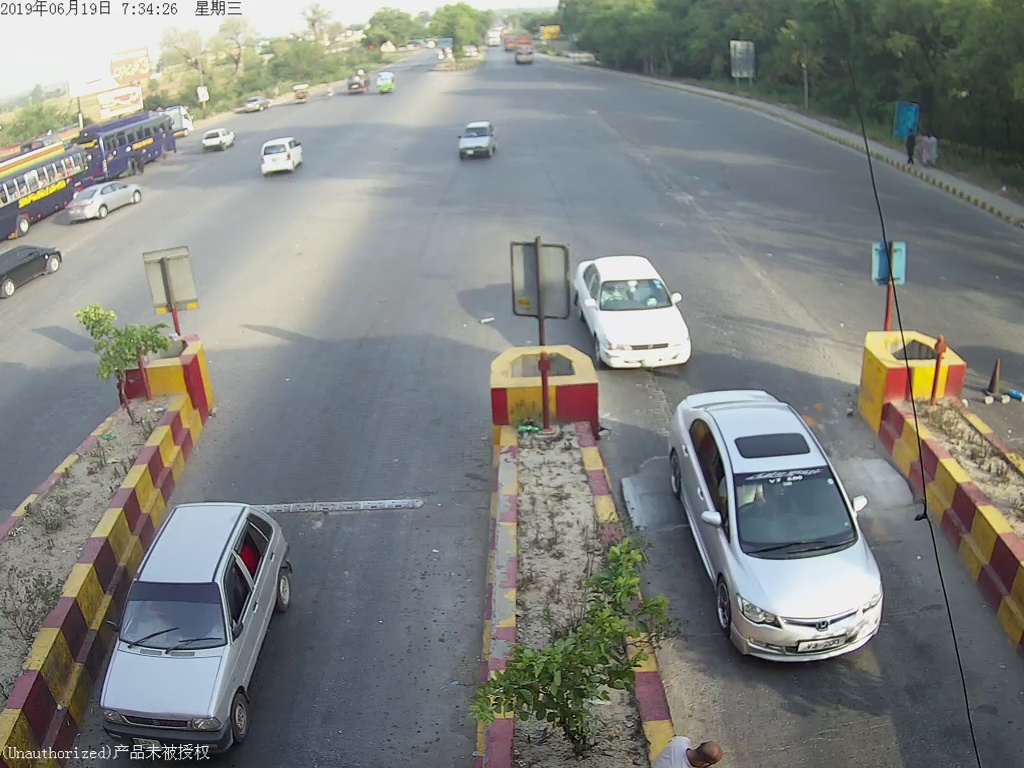Cat-1: (673, 395, 888, 657), (97, 518, 288, 735), (578, 254, 709, 368)
